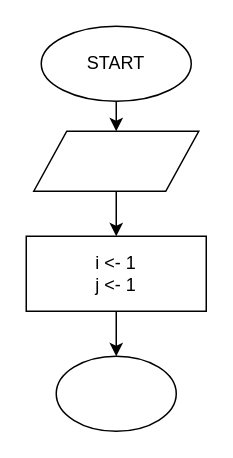
Image size: 233x458. Some labels were removed from this diagram. Here are the shapes that lost their labels. From the top down, the centre of each, then its label:
At point (115, 160): "m <- [Y] n <- [X]".
At point (115, 393): "END".
